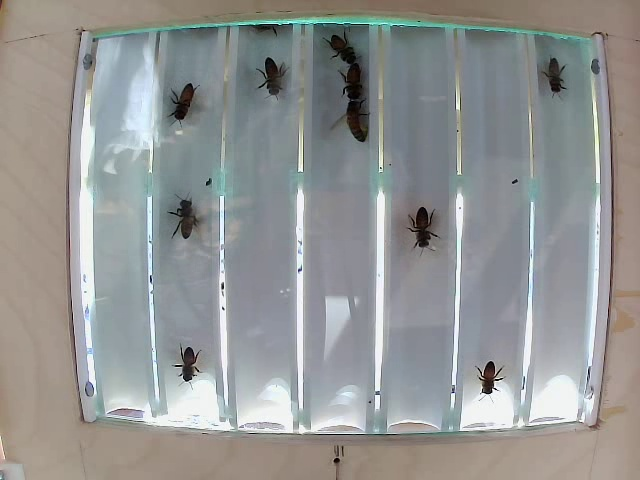bee: (543, 47, 586, 105), (157, 86, 200, 131), (166, 345, 218, 381), (330, 104, 373, 143), (249, 65, 292, 104), (336, 68, 376, 106), (164, 197, 210, 230), (465, 362, 512, 394), (401, 197, 439, 236), (327, 33, 366, 67)
